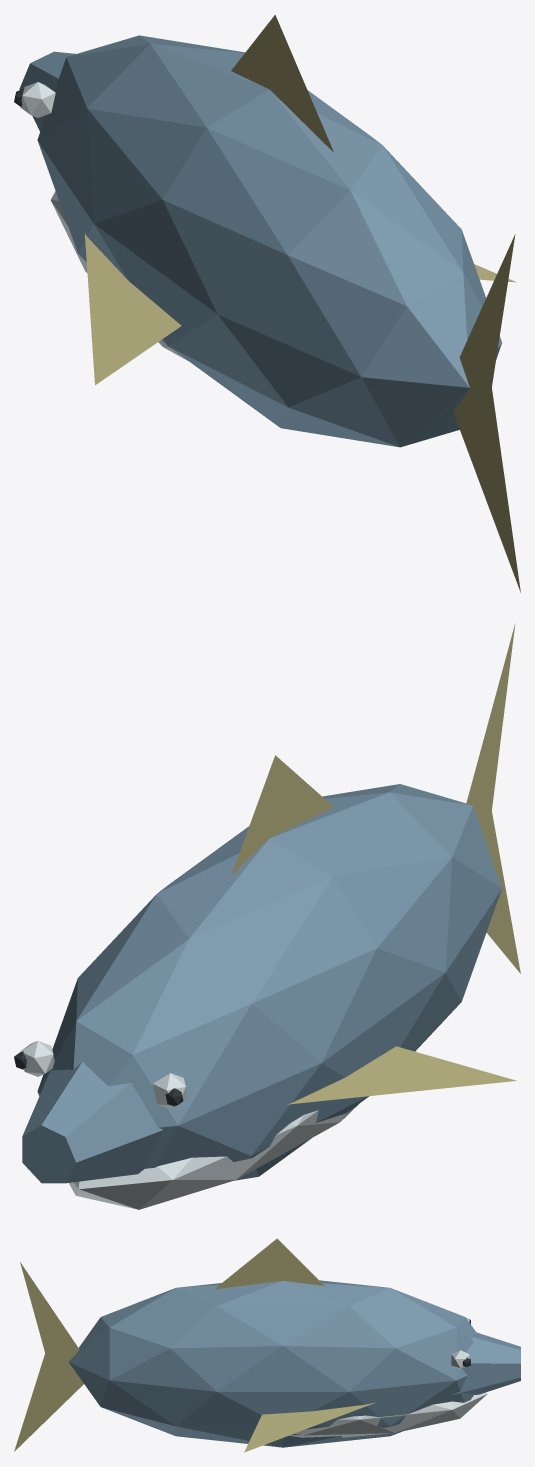
The model's file is Tuna.fbx.
3 renders of one model, top to bottom at view 1: azimuth 30°, elevation 25°; view 2: azimuth 150°, elevation 25°; view 3: azimuth 270°, elevation 25°, orthographic. The views are drawn at different scales.
Parts seen in each view (by area): view 1: Body, CrescentTail, Pectoral1, Dorsal, Snout, Eye1; view 2: Body, Snout, Belly, Pectoral1, CrescentTail, Dorsal, Eye-1, Eye1; view 3: Body, CrescentTail, Belly, Snout, Dorsal, Pectoral-1.
Part boxes in pixels (x1,y1,x2,y2): Body: [37, 35, 501, 447]; CrescentTail: [453, 234, 520, 592]; Pectoral1: [85, 233, 181, 385]; Dorsal: [231, 15, 333, 152]; Snout: [19, 51, 75, 131]; Eye1: [20, 82, 55, 117]; Body: [37, 784, 501, 1180]; Snout: [22, 1062, 163, 1183]; Belly: [69, 1104, 358, 1209]; Pectoral1: [287, 1046, 516, 1104]; CrescentTail: [466, 623, 520, 973]; Dorsal: [231, 755, 333, 875]; Eye-1: [20, 1041, 54, 1076]; Eye1: [152, 1073, 187, 1108]; Body: [69, 1280, 477, 1447]; CrescentTail: [14, 1262, 83, 1451]; Belly: [289, 1392, 487, 1437]; Snout: [451, 1332, 520, 1395]; Dorsal: [214, 1238, 324, 1289]; Pectoral-1: [244, 1402, 375, 1452].
Size of the model in its own units: 1.34 by 1.21 by 2.6.
